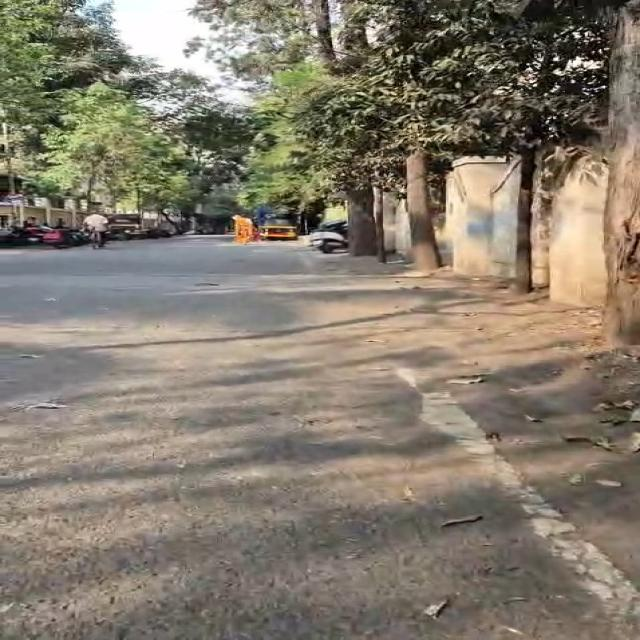obstacle: (604, 0, 639, 344), (406, 150, 441, 274), (512, 147, 536, 293), (532, 171, 561, 288), (347, 186, 376, 256), (312, 0, 336, 68), (374, 187, 386, 263)
person: (84, 214, 108, 246)
vehical: (310, 221, 348, 253)
